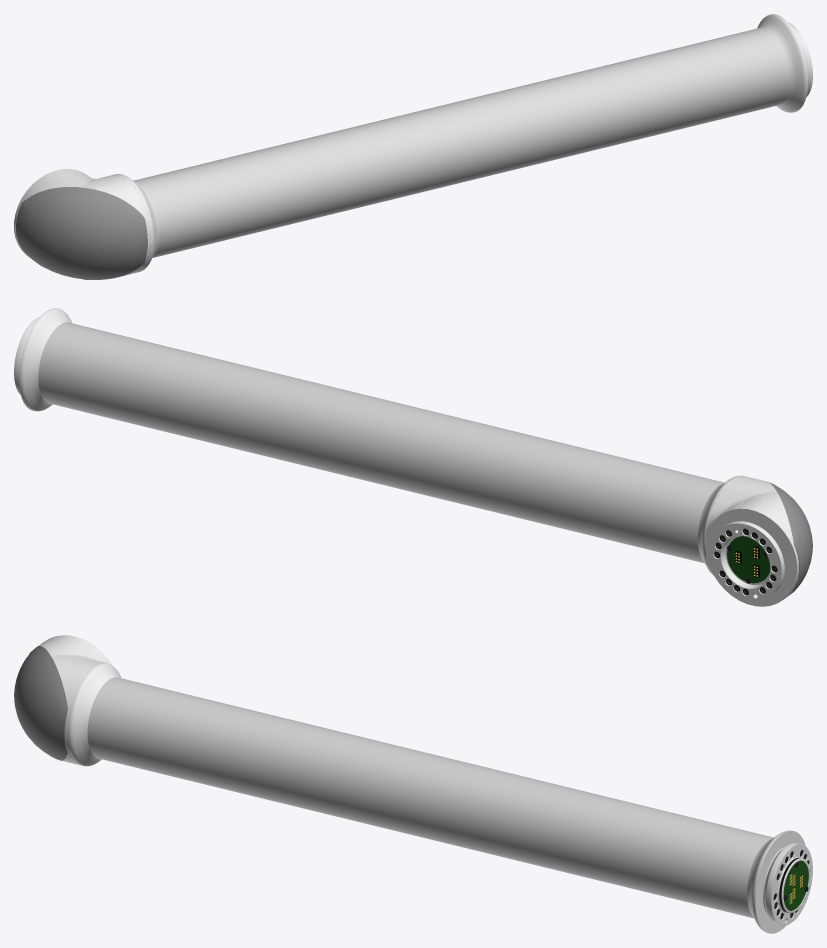
3 renders of one model, top to bottom at view 1: azimuth 30°, elevation 25°; view 2: azimuth 150°, elevation 25°; view 3: azimuth 330°, elevation 25°, orthographic. The views are drawn at different scales.
Visible parts, largest first — view 1: L86.001; view 2: L86.001; view 3: L86.001.
Part boxes in pixels (<box>): L86.001: <box>14,14,812,279</box>; L86.001: <box>14,308,812,606</box>; L86.001: <box>14,635,812,933</box>.
Bounding box in the file's own units: 0.7479 × 0.0861 × 0.0961.
